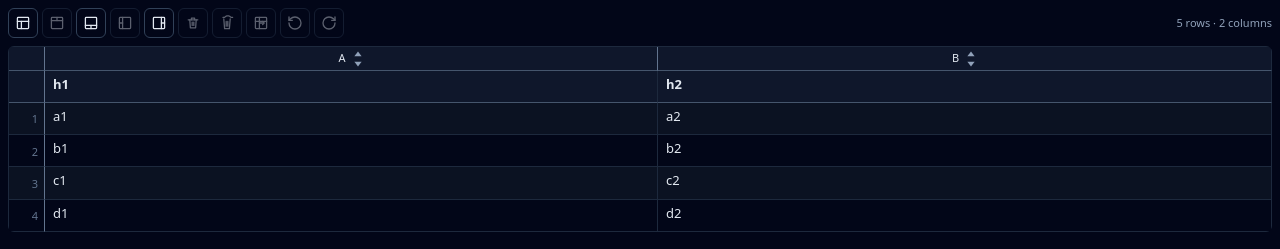
DataGrid (reusable grid) › Shift+click selects a contiguous range of rows
Press the mouse on the cell "2" at (27,151), box [9,135,45,167]
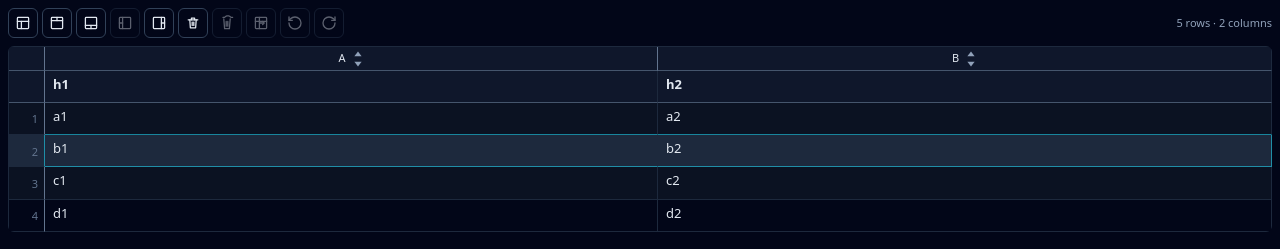
Press the mouse on the cell "3" at (27,183), box [9,167,45,200]
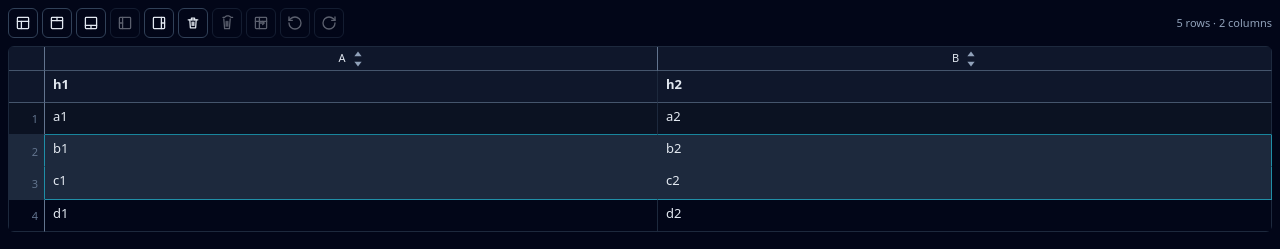
Expected: the button named "Delete rows" is enabled
Click the button named "Delete rows" at (193,23), box [178,8,208,38]
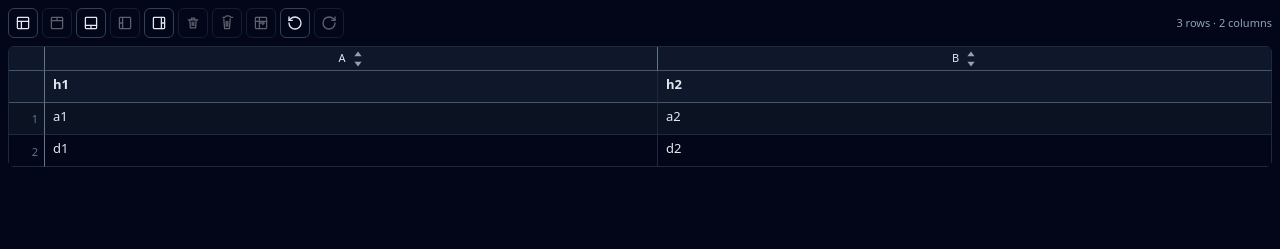
Expected: the element with test id "data-grid" shows "3 rows · 2 columns", [1176,15,1272,30]
